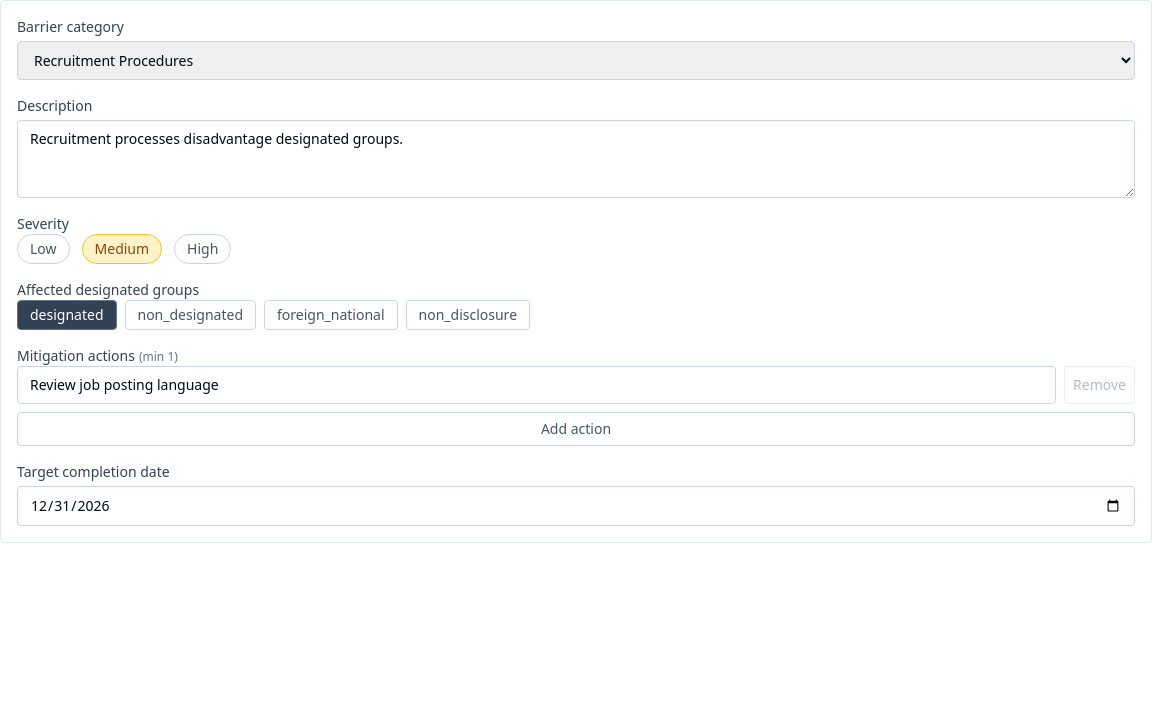
it: BarrierCategoryBlock — analysis mode › remove mitigation action button is enabled after adding a second action
What coordinates should you click on to do the following:
click the button "Add action"
I would click on:
 (576, 429)
Its box is [17, 412, 1135, 446].
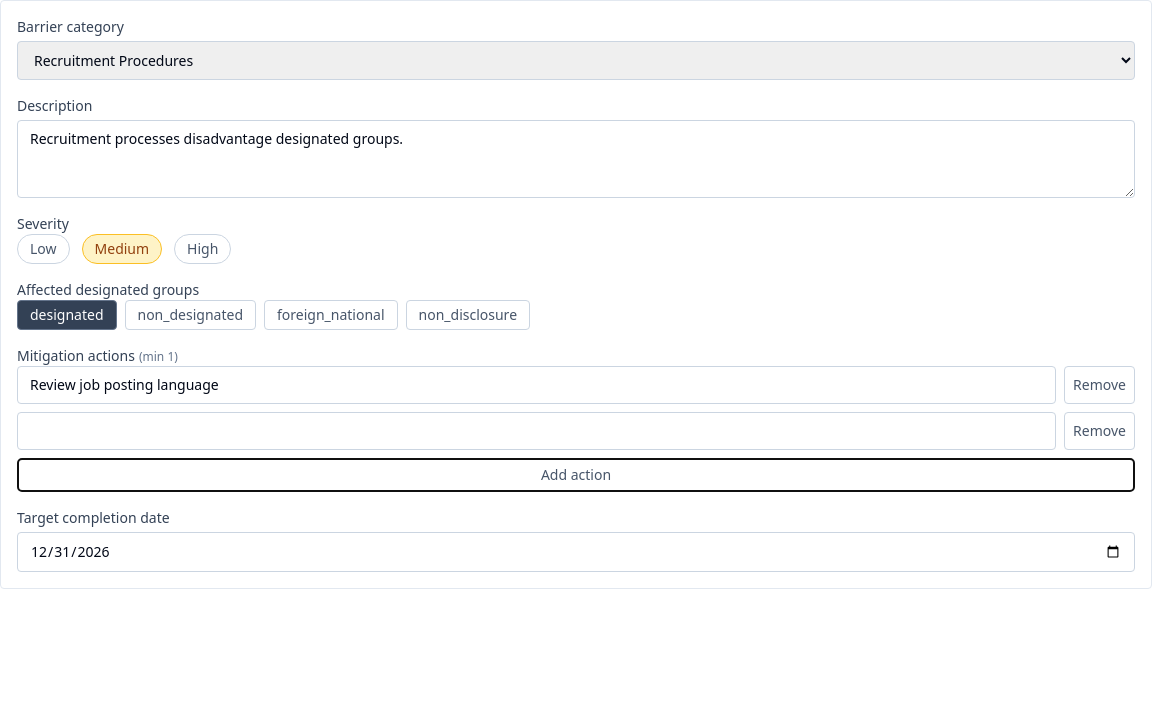
Expected: the number of buttons named "remove mitigation action" is 2, [1064, 366, 1135, 404]; [1064, 412, 1135, 450]
Expected: the button with aria-label "remove mitigation action" is enabled, [1064, 366, 1135, 404]
